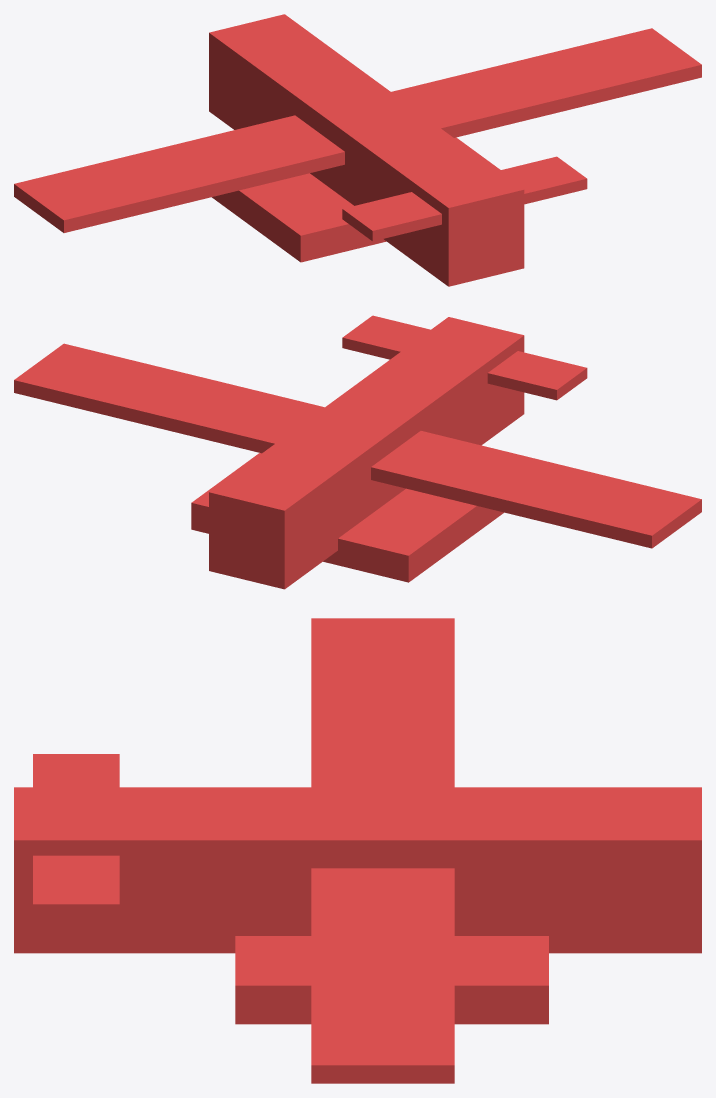
The model's file is fable-t01-aircraft-collision.glb.
The picture shows the model from 3 angles, top to bottom: view 1: azimuth 30°, elevation 25°; view 2: azimuth 150°, elevation 25°; view 3: azimuth 270°, elevation 25°; orthographic projection. The views are drawn at different scales.
Parts seen in each view (by area): view 1: COL_Fuselage, COL_Wing, COL_Gear, COL_Tail; view 2: COL_Fuselage, COL_Wing, COL_Gear, COL_Tail; view 3: COL_Fuselage, COL_Wing, COL_Gear, COL_Tail.
Boxes of the visible parts, x1=… form: COL_Fuselage: x1=209, y1=14, x2=524, y2=286; COL_Wing: x1=14, y1=28, x2=701, y2=232; COL_Gear: x1=212, y1=137, x2=500, y2=262; COL_Tail: x1=342, y1=156, x2=587, y2=241; COL_Fuselage: x1=209, y1=317, x2=524, y2=589; COL_Wing: x1=14, y1=343, x2=701, y2=548; COL_Gear: x1=191, y1=453, x2=503, y2=582; COL_Tail: x1=342, y1=315, x2=587, y2=400; COL_Fuselage: x1=14, y1=787, x2=701, y2=953; COL_Wing: x1=311, y1=618, x2=454, y2=1083; COL_Gear: x1=235, y1=936, x2=548, y2=1024; COL_Tail: x1=33, y1=754, x2=119, y2=919.
Bounding box in the file's own units: 11.45 × 1.61 × 7.45.
